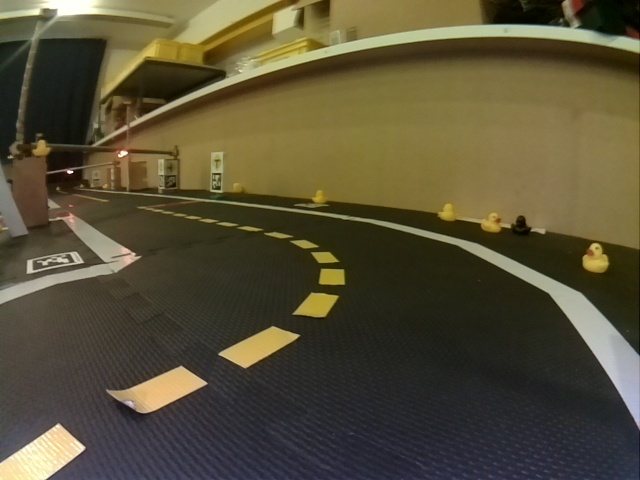Duckie: (583, 244, 609, 272), (481, 213, 501, 231), (438, 204, 454, 221), (35, 140, 49, 155), (314, 190, 326, 202), (233, 183, 239, 193)
Intersection sign: (212, 154, 222, 170), (165, 162, 175, 174)
QR code: (29, 251, 82, 272), (211, 173, 221, 191), (166, 176, 175, 188)
Traffic light: (116, 149, 126, 158), (67, 169, 76, 178)
